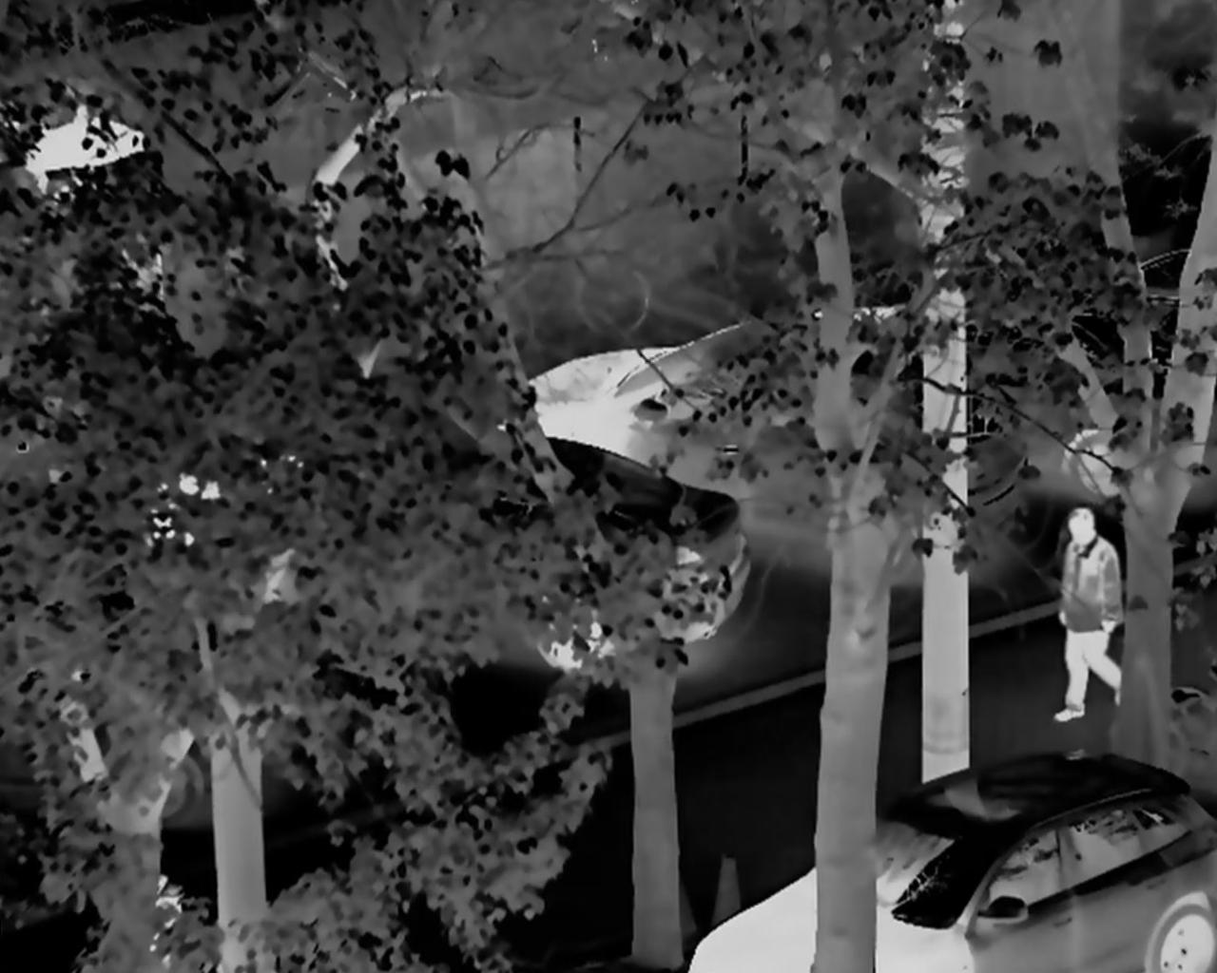person: (1040, 507, 1133, 728)
